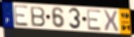3: (67, 8, 83, 31)
6: (51, 7, 66, 30)
B: (29, 6, 47, 28)
E: (13, 4, 30, 28), (86, 8, 103, 32)
X: (102, 9, 120, 33)
